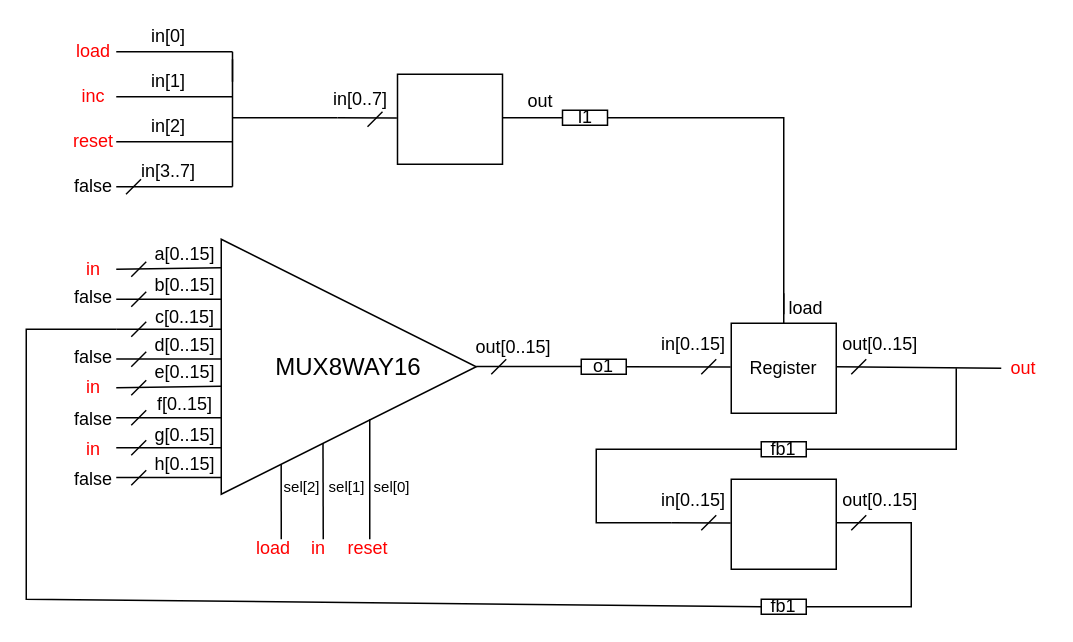
Image size: 1073x642. Some labels were removed from this diagram. The centre of each missing label's shape, as x and y in pixels:
Inc16: the point at 783,523
OR8WAY: the point at 449,118
